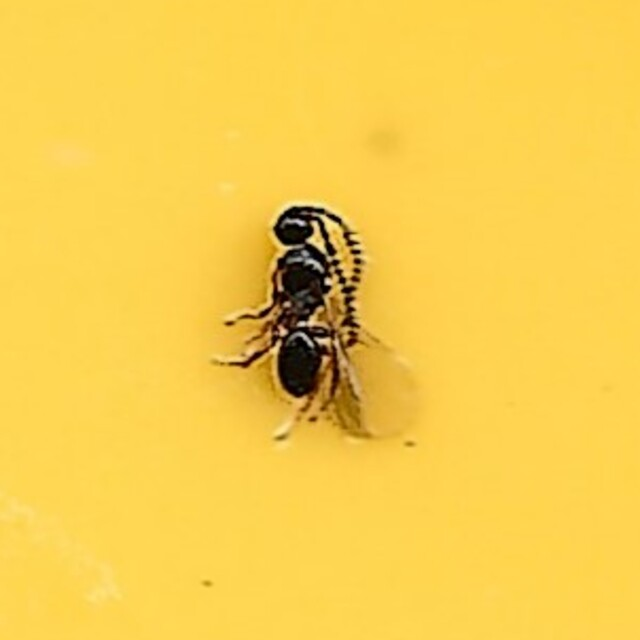Hymenoptera: (212, 197, 428, 443)
